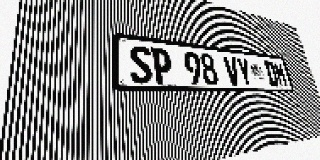8: (199, 53, 219, 85)
9: (183, 51, 204, 85)
D: (263, 61, 279, 86)
M: (273, 62, 288, 86)
P: (151, 47, 173, 84)
S: (129, 45, 153, 84)
V: (223, 56, 241, 85)
Y: (235, 57, 253, 86)
